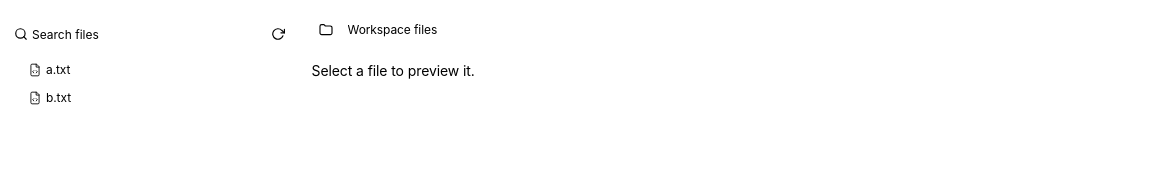
Test: WorkspaceFilesPanel request ownership › ignores a stale page b.txt/resolve after selecting or reopening a file
Click the text with class "workspace-files__name" showing "a.txt" at (58, 69), box [46,62,70,77]
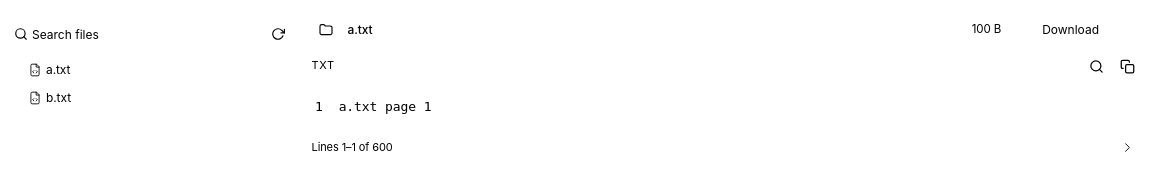
Click the button with class "workspace-file__more" at (1128, 147), box [1115,133,1140,161]
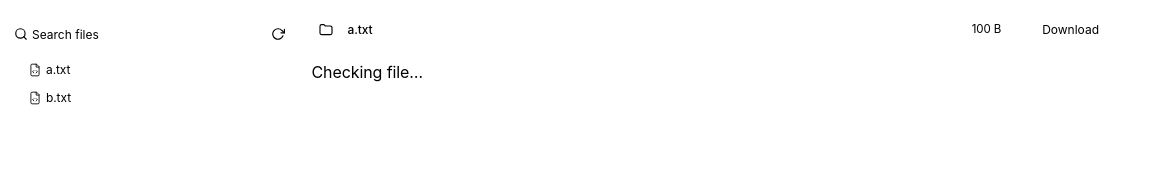
Click the text with class "workspace-files__name" showing "b.txt" at (58, 97), box [46,90,71,105]
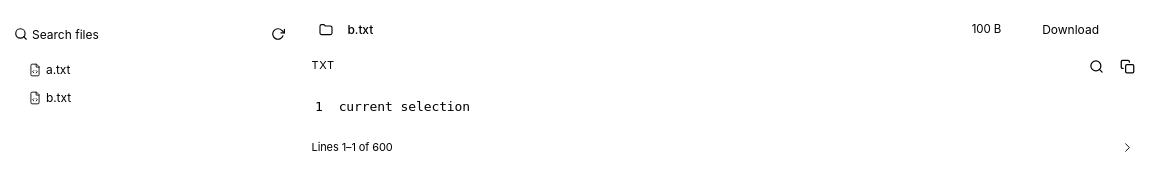
Expected: the message "Lines 1–1 of 600" is shown, [312,139,393,156]
Expected: the element showing "1 current selection" is shown, [315,99,470,114]
